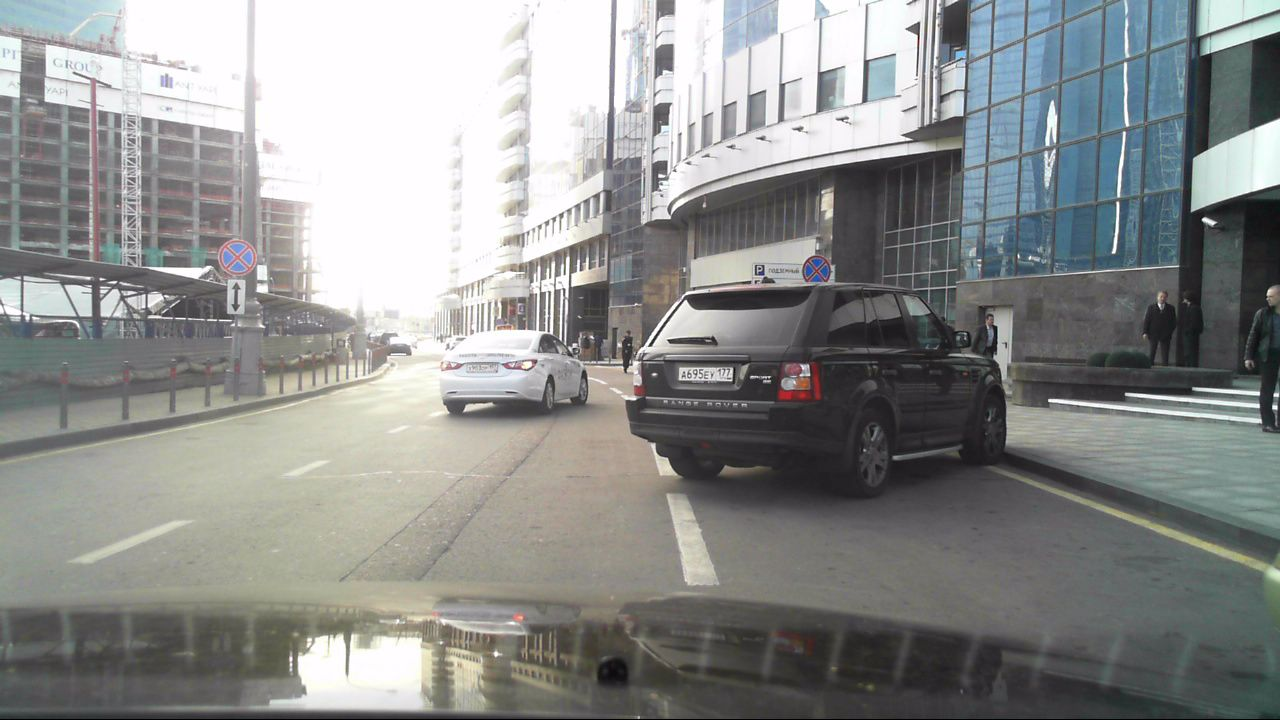No Parking: (801, 255, 830, 288)
